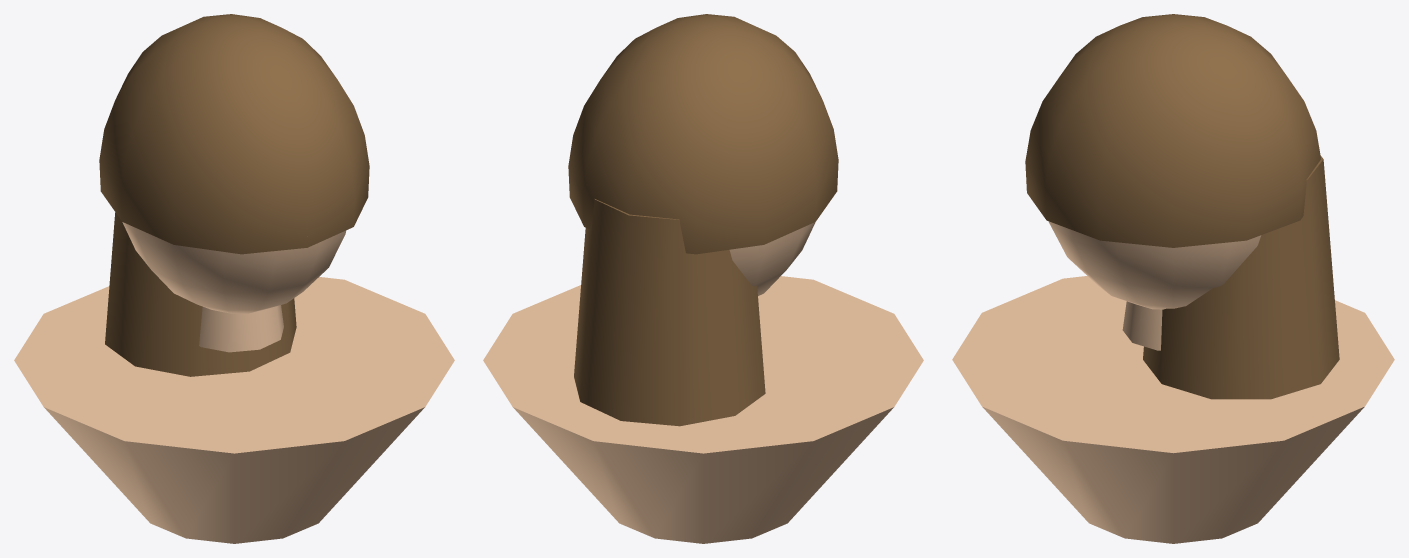
File: portrait03w_002.glb
3 renders of one model, left to right at view 1: azimuth 30°, elevation 25°; view 2: azimuth 150°, elevation 25°; view 3: azimuth 270°, elevation 25°, orthographic.
Bounding box in the file's own units: 1.83 × 2.18 × 1.83.
